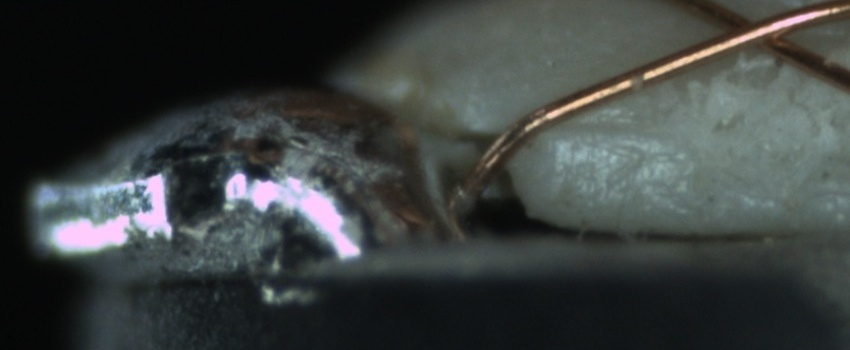CL: (695, 2, 820, 61)
DL: (554, 101, 671, 156)
